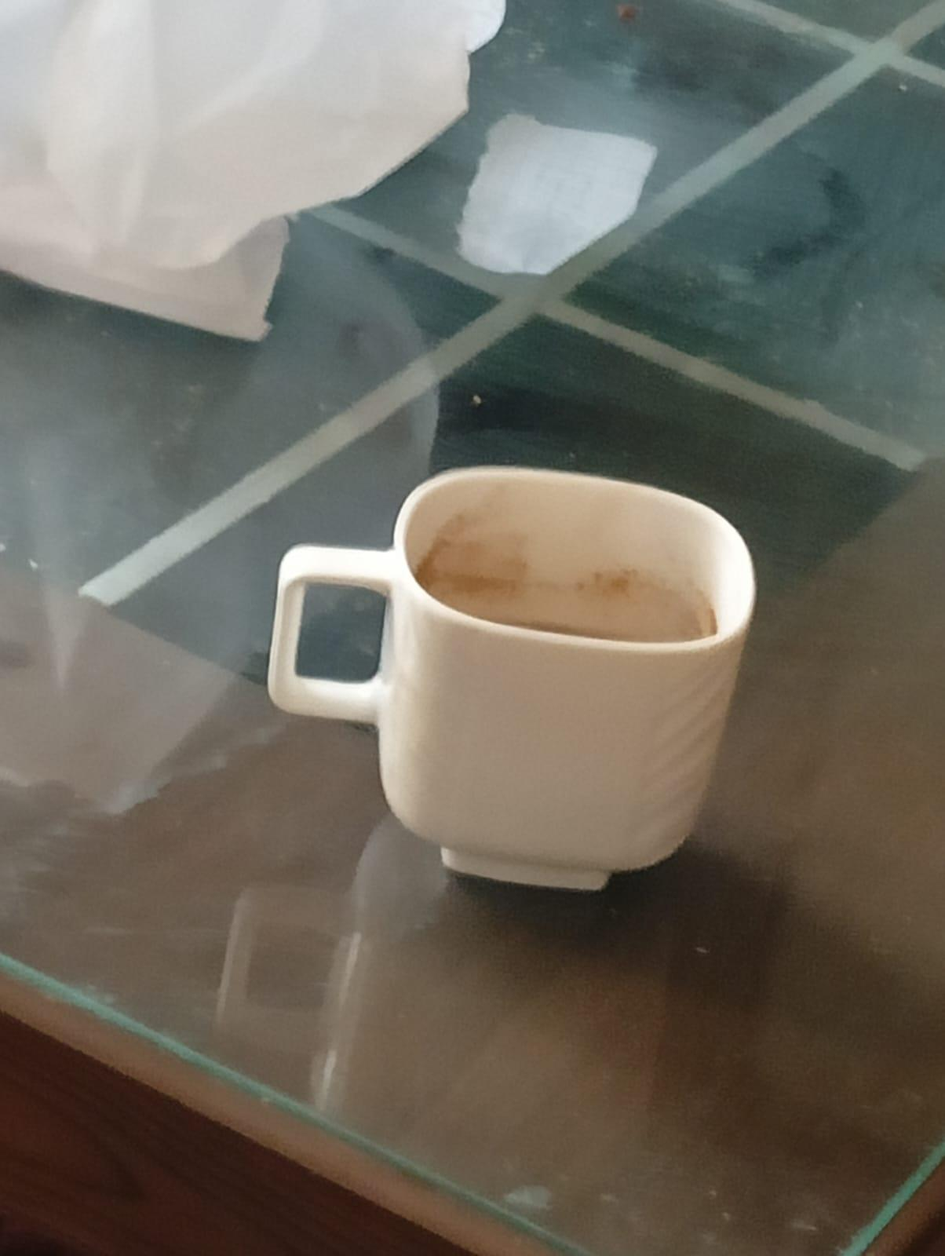cup: (268, 468, 754, 889)
